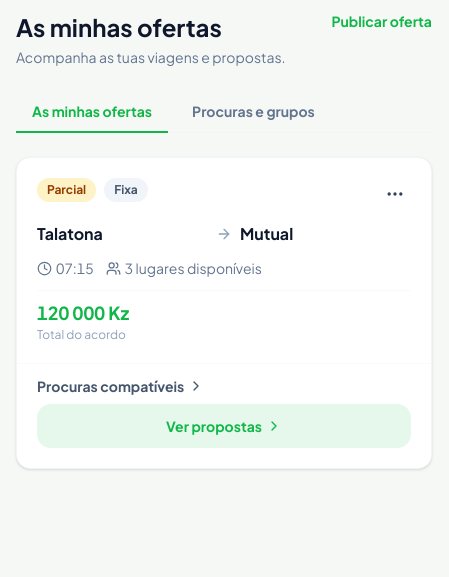
Test case: DriverDashboard — marketplace › com oferta activa: tab Procuras e grupos mostra feed e CTA Enviar proposta
Expected: the text "Talatona" is shown, [37,223,103,244]
Click the tab "Procuras e grupos": {"x": 254, "y": 112} [176,91,331,133]
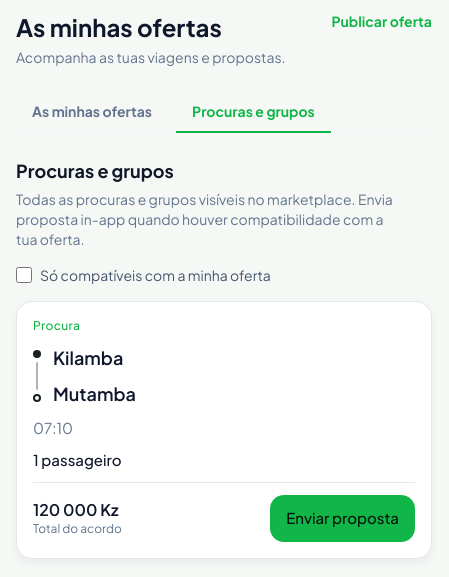
Now the element with test id "driver-procuras-grupos-section" is shown
Now the text "Kilamba" is shown, box [53,346,123,369]
Now the button "Enviar proposta" is shown, box [270,495,415,542]
